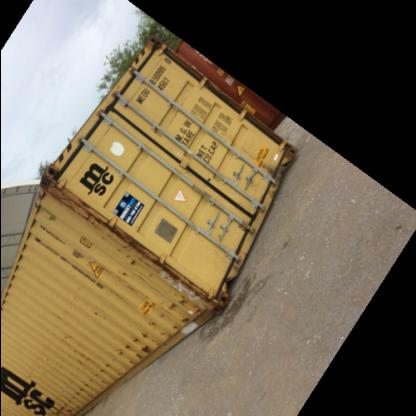Damage: (134, 244, 226, 326), (42, 176, 132, 251), (86, 324, 157, 384), (108, 239, 158, 278), (44, 376, 92, 414)
